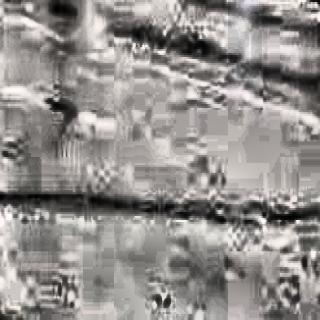crack: (21, 153, 291, 246)
